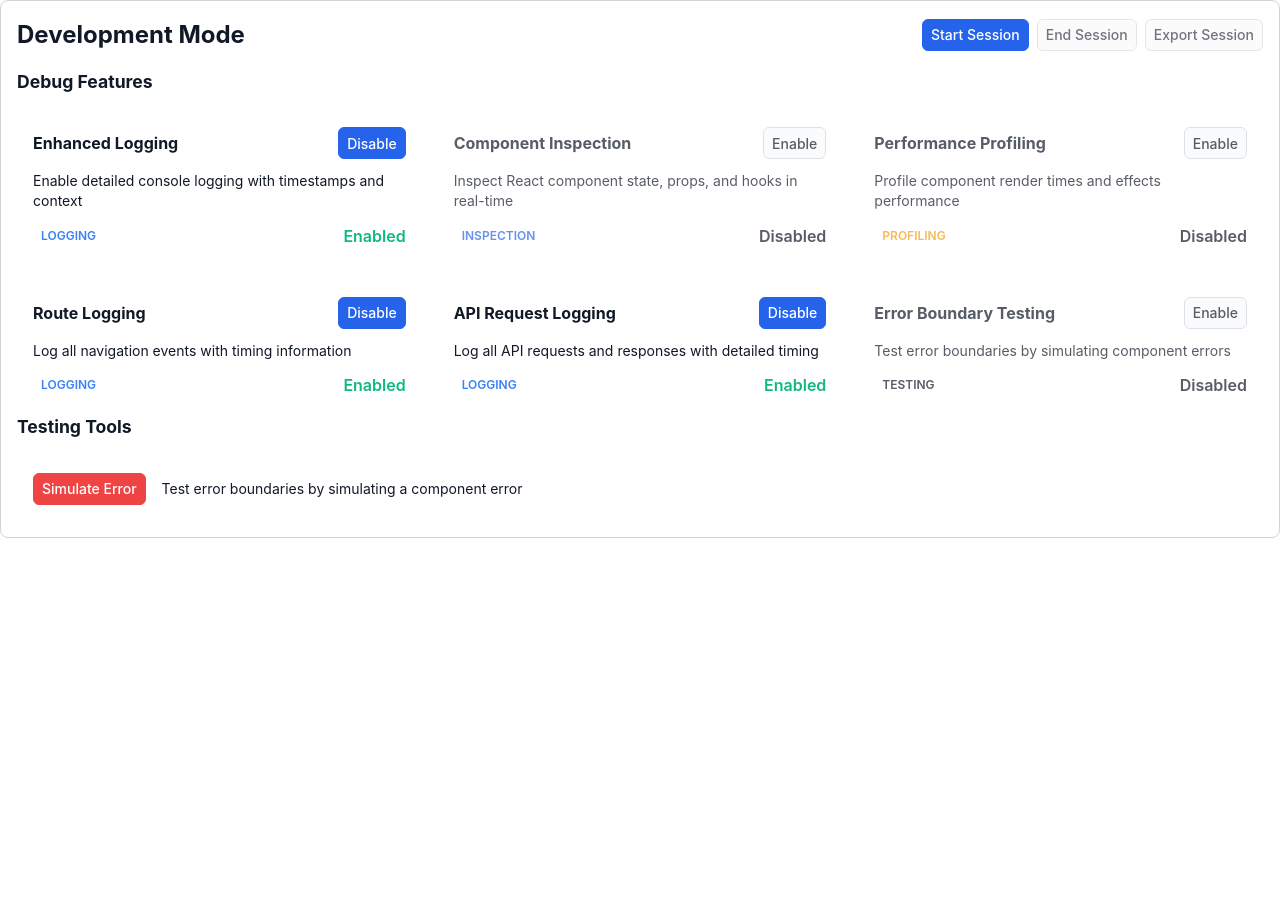
Test: DevMode Component › shows component inspection when enabled
This screenshot has width=1280, height=900.
# Enable component inspection
Click the button "Enable" next to "Component Inspection": [795, 143] box [763,127,826,159]
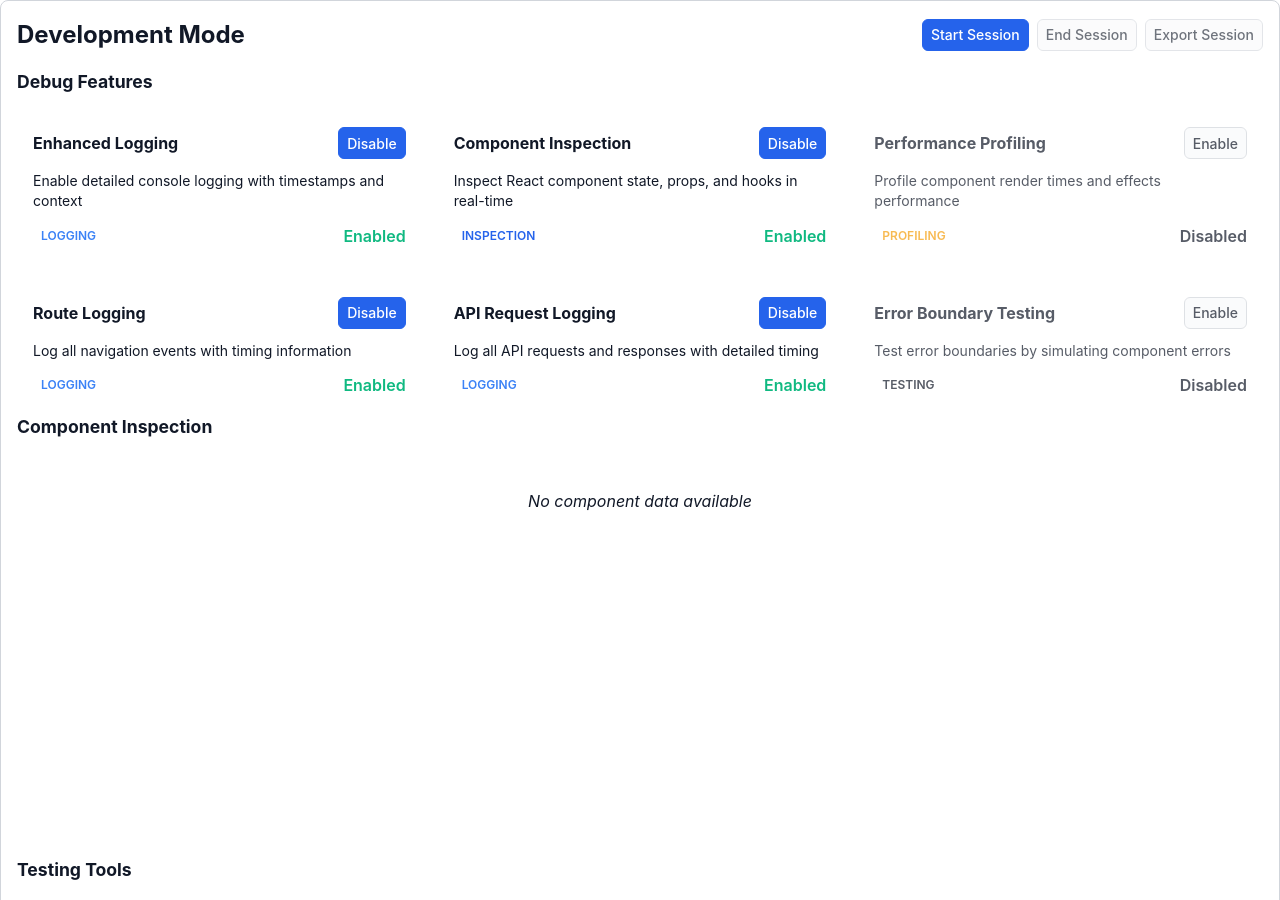
Expected: the 2nd heading "Component Inspection" is shown, [17,416,212,437]
